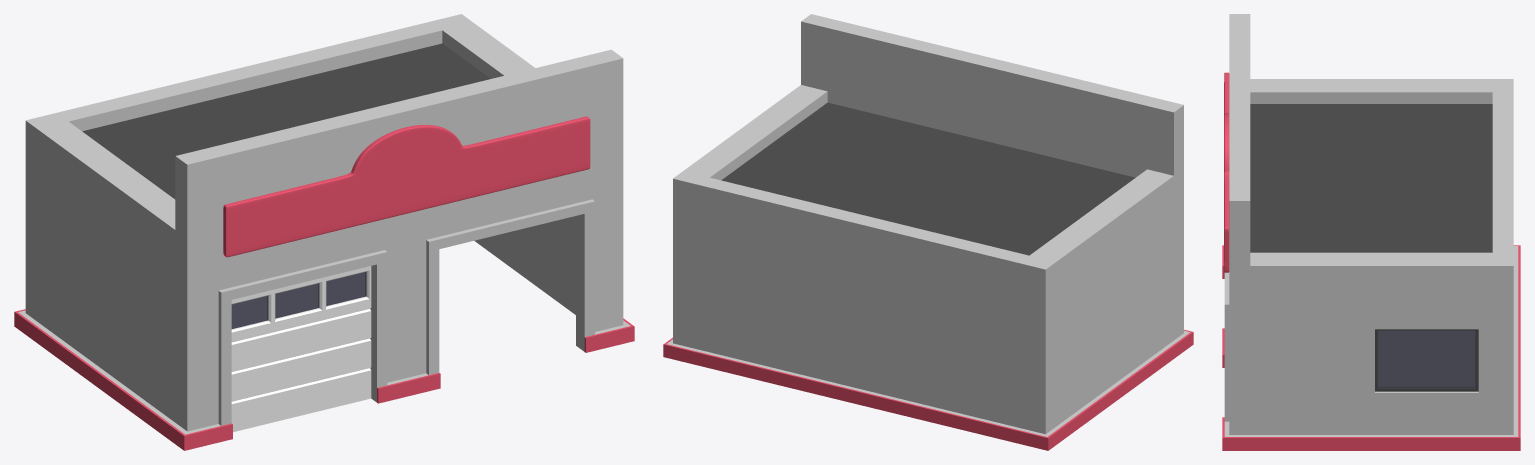
File: shop.glb
3 renders of one model, left to right at view 1: azimuth 30°, elevation 25°; view 2: azimuth 150°, elevation 25°; view 3: azimuth 270°, elevation 25°, orthographic. The views are drawn at different scales.
Parts seen in each view (by area): view 1: Main building, Sign, Roof, Garage door, Bottom section, Garage door glass; view 2: Main building, Roof, Bottom section; view 3: Main building, Roof, Window glass, Bottom section, Sign, Window frame.
Part boxes in pixels (box(x1,y1,x2,y2)): Main building: box(18, 14, 630, 434); Sign: box(223, 116, 590, 257); Roof: box(82, 43, 490, 199); Garage door: box(231, 266, 371, 431); Bottom section: box(14, 309, 634, 450); Garage door glass: box(231, 272, 366, 328); Main building: box(667, 14, 1189, 436); Roof: box(721, 102, 1135, 255); Bottom section: box(663, 329, 1193, 450); Main building: box(1224, 14, 1518, 436); Roof: box(1250, 104, 1492, 252); Window glass: box(1378, 330, 1475, 388); Bottom section: box(1222, 245, 1520, 450); Sign: box(1224, 72, 1229, 272); Window frame: box(1375, 329, 1478, 391).
Size of the model in its own units: 1.91 by 1.14 by 1.25.
